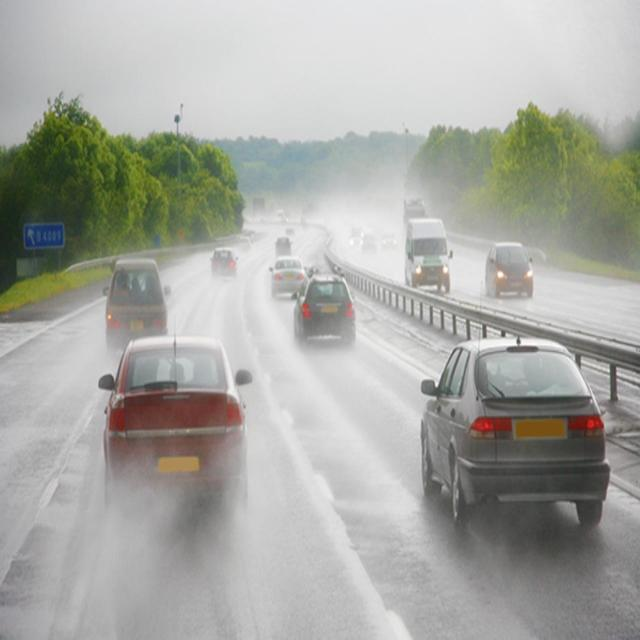Car: (415, 343, 612, 531), (98, 336, 252, 522), (100, 260, 173, 342), (292, 270, 356, 342), (484, 242, 539, 300), (268, 260, 307, 296), (207, 248, 240, 283)
Van: (403, 220, 452, 298)
